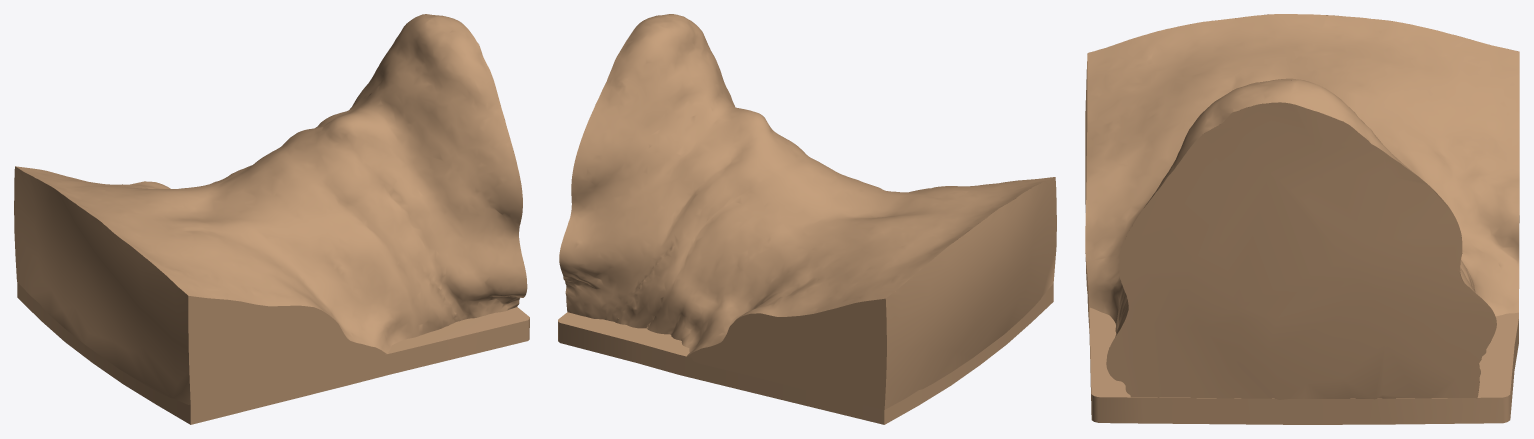
File: SKIN.fbx
3 renders of one model, left to right at view 1: azimuth 30°, elevation 25°; view 2: azimuth 150°, elevation 25°; view 3: azimuth 270°, elevation 25°, orthographic. The views are drawn at different scales.
Visible parts, largest first — view 1: SKIN; view 2: SKIN; view 3: SKIN.
Boxes of the visible parts, x1=… form: SKIN: x1=14, y1=14, x2=529, y2=424; SKIN: x1=558, y1=14, x2=1056, y2=424; SKIN: x1=1085, y1=14, x2=1519, y2=424.
Size of the model in its own units: 18.8 by 12.9 by 15.33.
